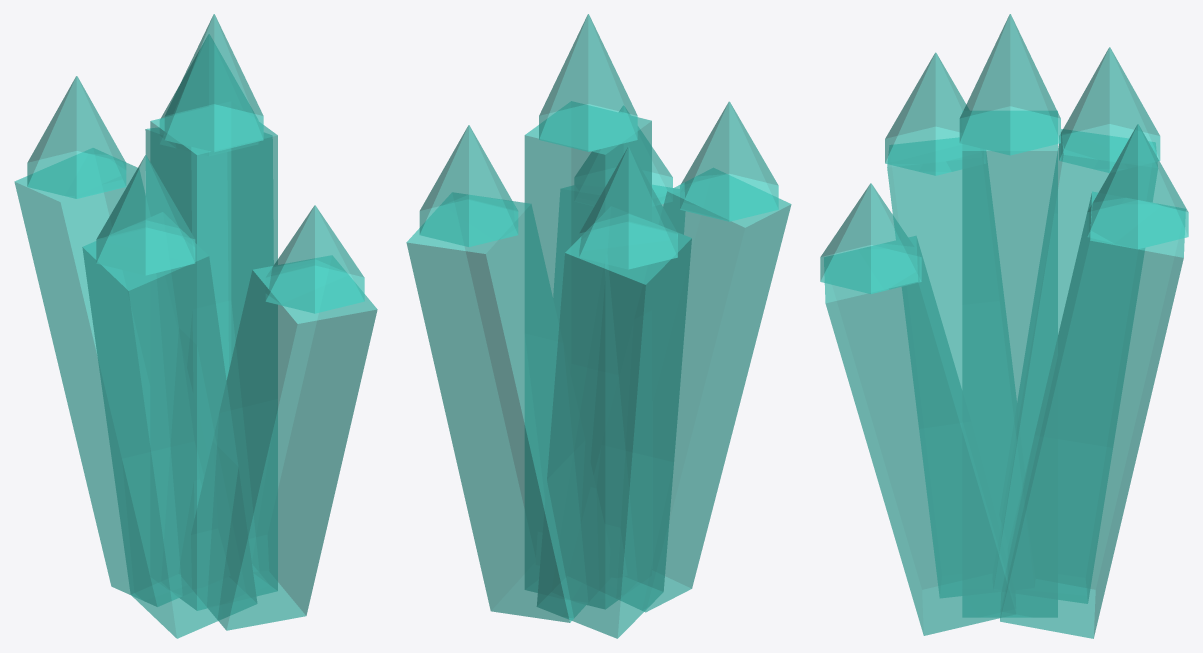
The model's file is crystal_l.fbx.
3 renders of one model, left to right at view 1: azimuth 30°, elevation 25°; view 2: azimuth 150°, elevation 25°; view 3: azimuth 270°, elevation 25°, orthographic. The views are drawn at different scales.
Visible parts, largest first — view 1: crystal_l; view 2: crystal_l; view 3: crystal_l.
Part boxes in pixels (x1,y1,x2,y2): crystal_l: [14, 14, 377, 638]; crystal_l: [406, 14, 791, 638]; crystal_l: [820, 14, 1188, 638].
Size of the model in its own units: 987 by 2106 by 1178.
